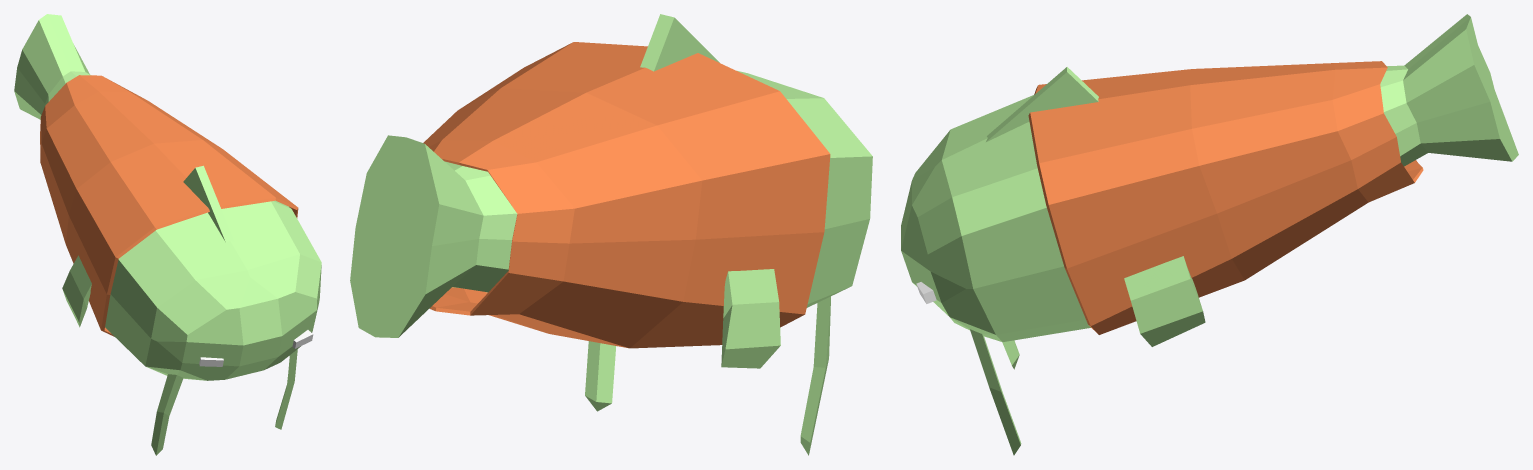
The model's file is master_tiny_model.glb.
3 views of the same model, side by side, from view 1: azimuth 30°, elevation 25°; view 2: azimuth 150°, elevation 25°; view 3: azimuth 270°, elevation 25° (orthographic). The views are drawn at different scales.
Parts seen in each view (by area): view 1: eyes; view 2: eyes; view 3: eyes.
Boxes of the visible parts, x1,y1,x2,y2 form: eyes: [14, 14, 321, 455]; eyes: [350, 14, 872, 455]; eyes: [901, 14, 1518, 455].
Size of the model in its own units: 2.18 by 3.36 by 4.71.
